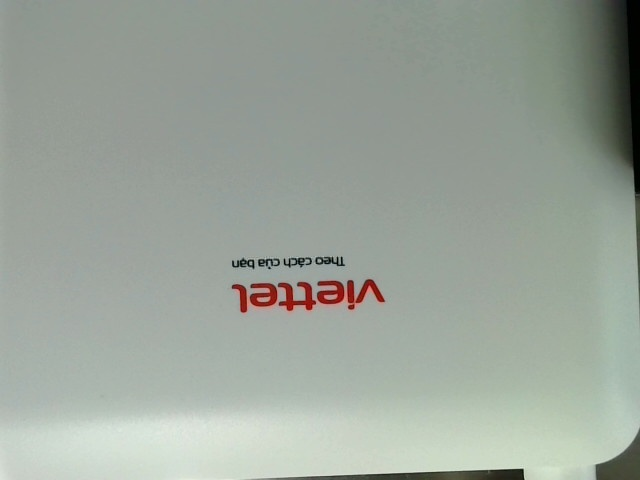AY_Viettel: (214, 251, 391, 320)
